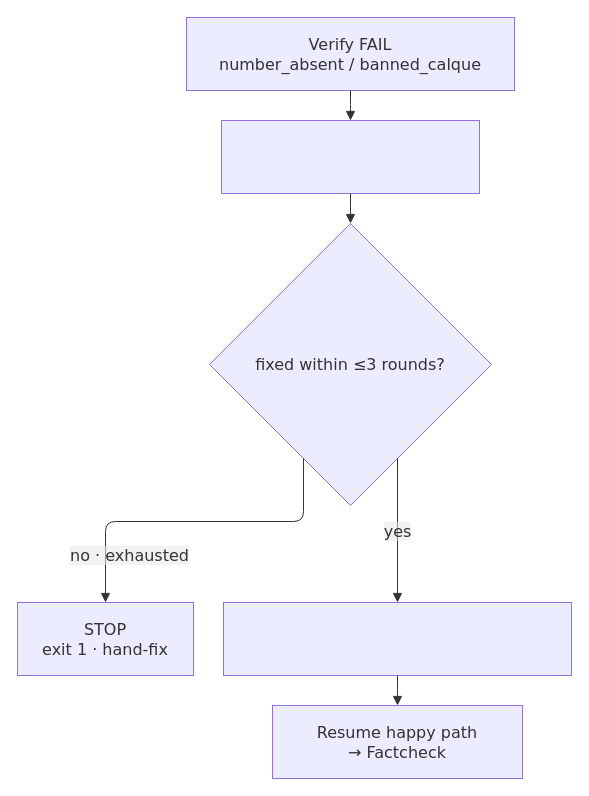
This 589x796 diagram has some shape labels left out. Each missing label, with the centre of its shape:
Assemble → chapter → verify same path again: (x=397, y=639)
Repair wave repair_wave.py · LLM: (x=350, y=157)
